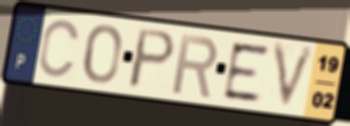C: (36, 17, 82, 80)
E: (221, 40, 272, 104)
O: (81, 22, 123, 86)
P: (125, 26, 180, 91)
R: (170, 31, 221, 100)
V: (270, 40, 319, 115)
